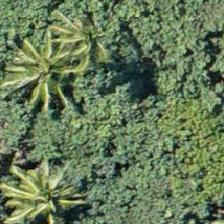coconut_tree: (0, 28, 82, 118), (34, 0, 124, 78), (0, 157, 79, 223)
